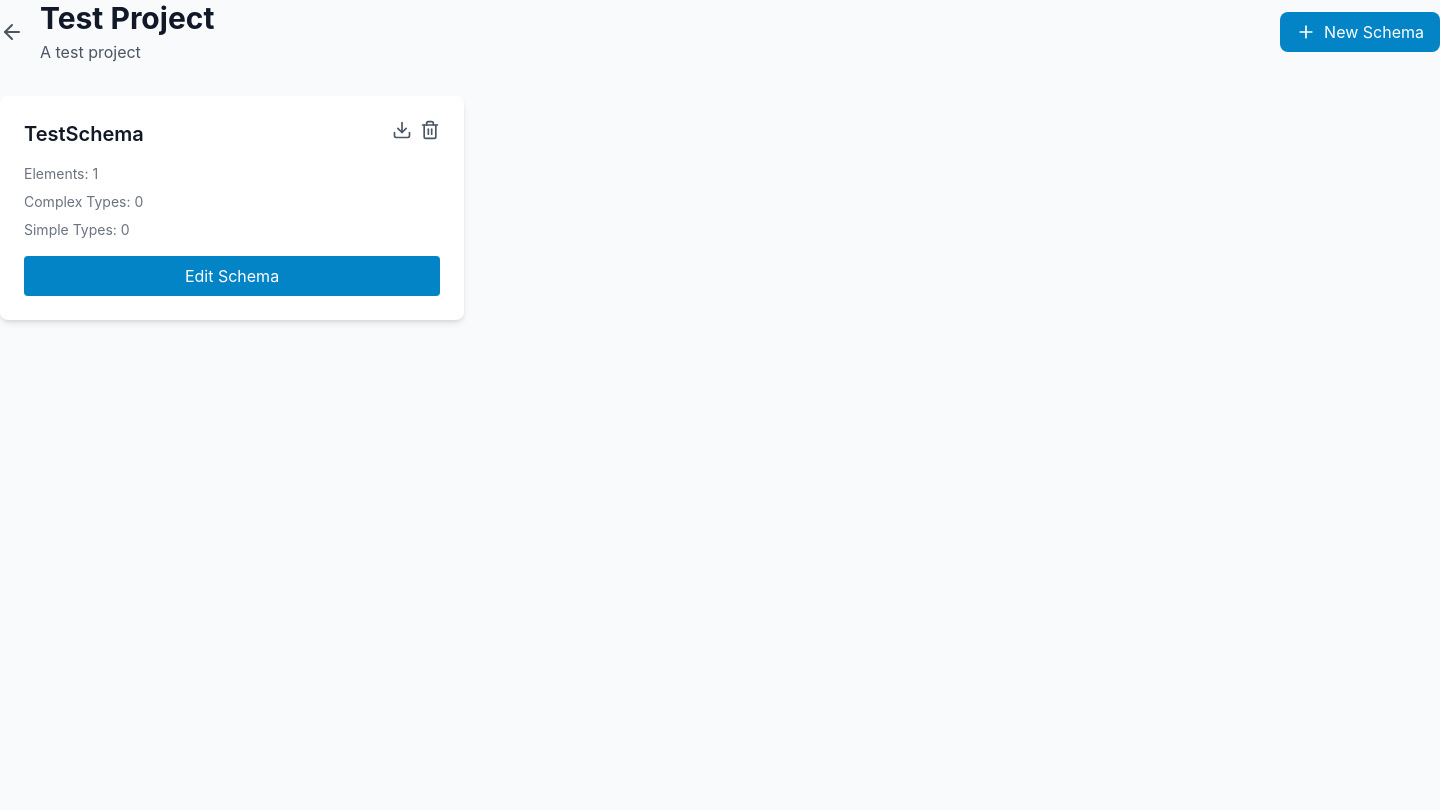
ProjectPage › opens delete schema dialog
Click the button titled "Delete" at (430,130), box [420,120,440,140]
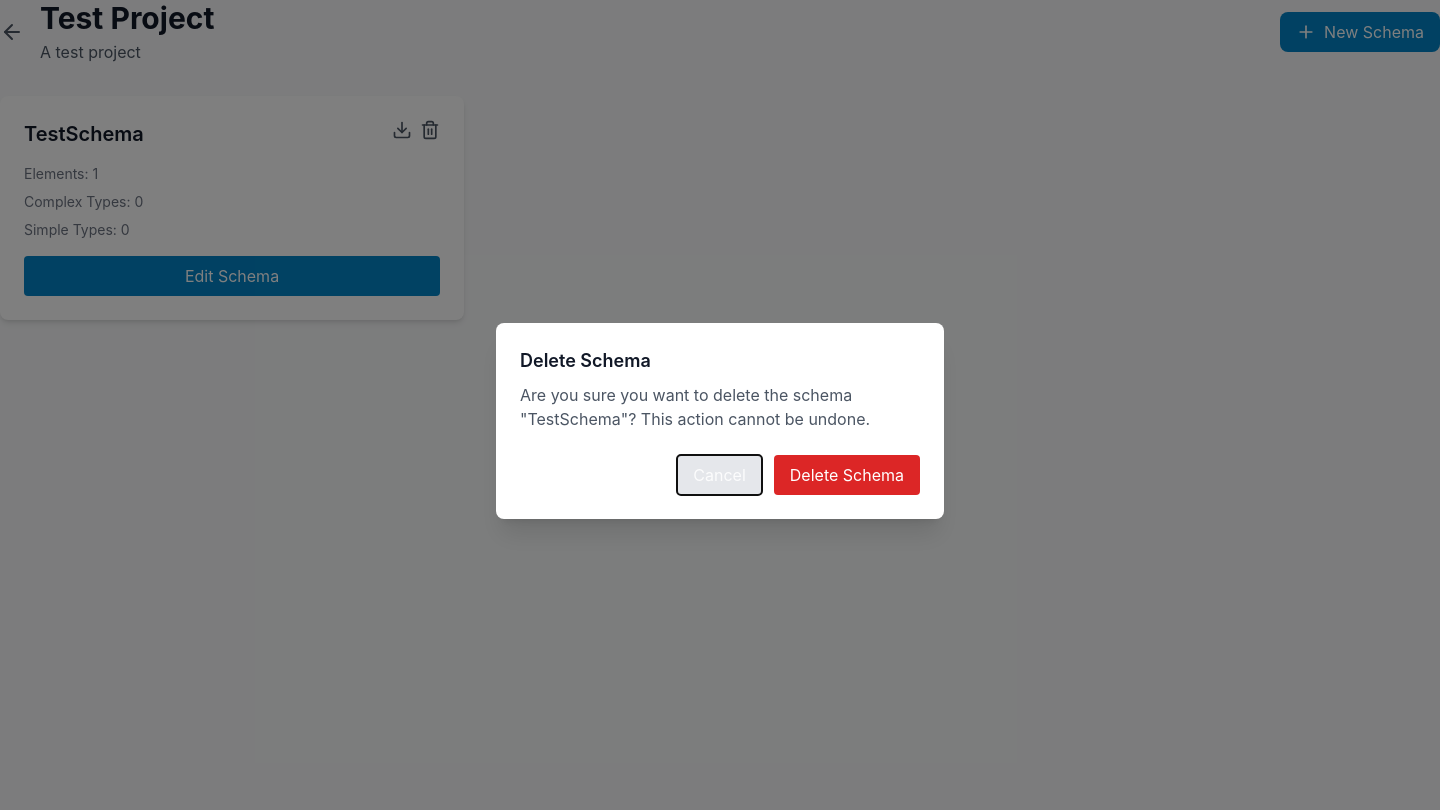
Check: the text "Are you sure you want to delete the schema \"TestSchema\"" is shown, box [520,385,870,429]
